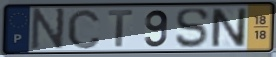9: (144, 8, 169, 48)
C: (66, 7, 102, 51)
N: (29, 7, 67, 52), (210, 7, 248, 49)
S: (174, 7, 210, 50)
T: (107, 9, 135, 49)
